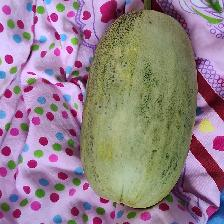gua: (91, 13, 189, 203)
